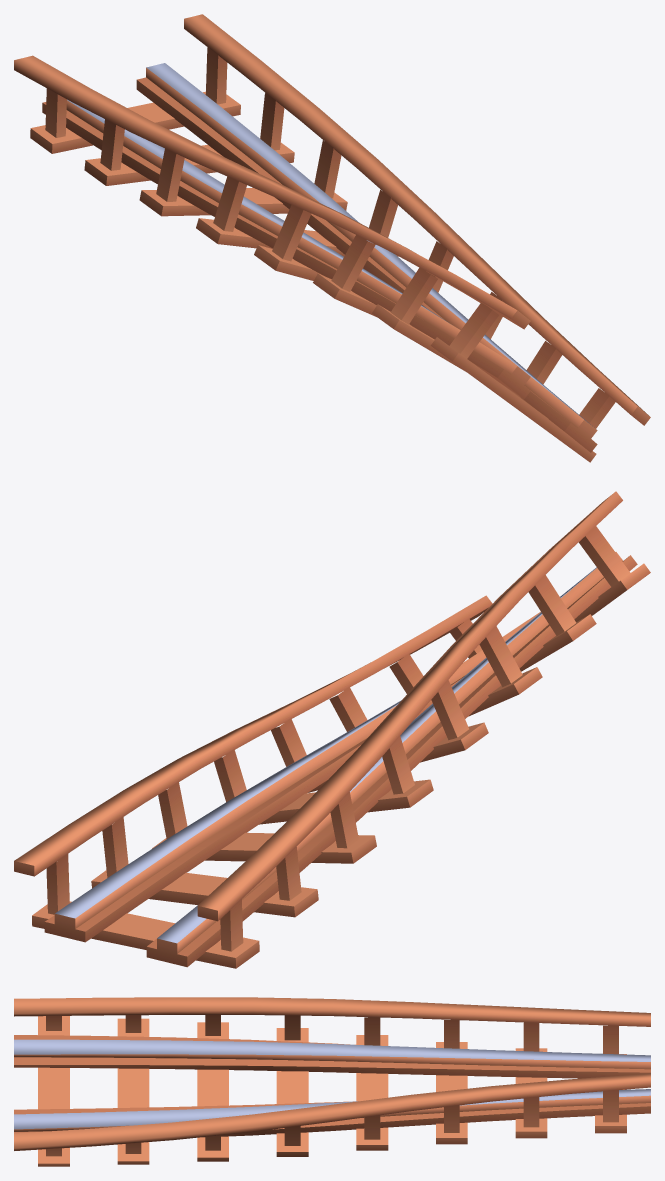
Rendered from kenney-coaster-coaster-wood-straight-skew-left.glb.
3 views of the same model, one above another, from view 1: azimuth 30°, elevation 25°; view 2: azimuth 150°, elevation 25°; view 3: azimuth 270°, elevation 25° (orthographic). The views are drawn at different scales.
Parts seen in each view (by area): view 1: coaster-wood-straight-skew-left; view 2: coaster-wood-straight-skew-left; view 3: coaster-wood-straight-skew-left.
Part boxes in pixels (box(x1,y1,x2,y2)): coaster-wood-straight-skew-left: box(14, 14, 650, 462); coaster-wood-straight-skew-left: box(14, 491, 650, 968); coaster-wood-straight-skew-left: box(14, 997, 650, 1166).
Size of the model in its own units: 1.09 by 0.9434 by 4.
1 material, 1 textured.
